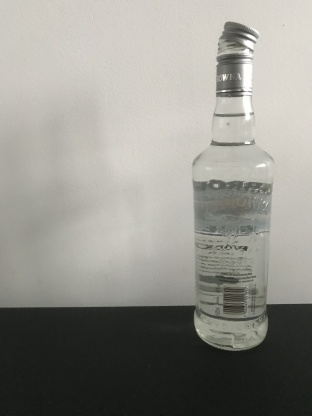nakretka: (214, 18, 260, 97)
